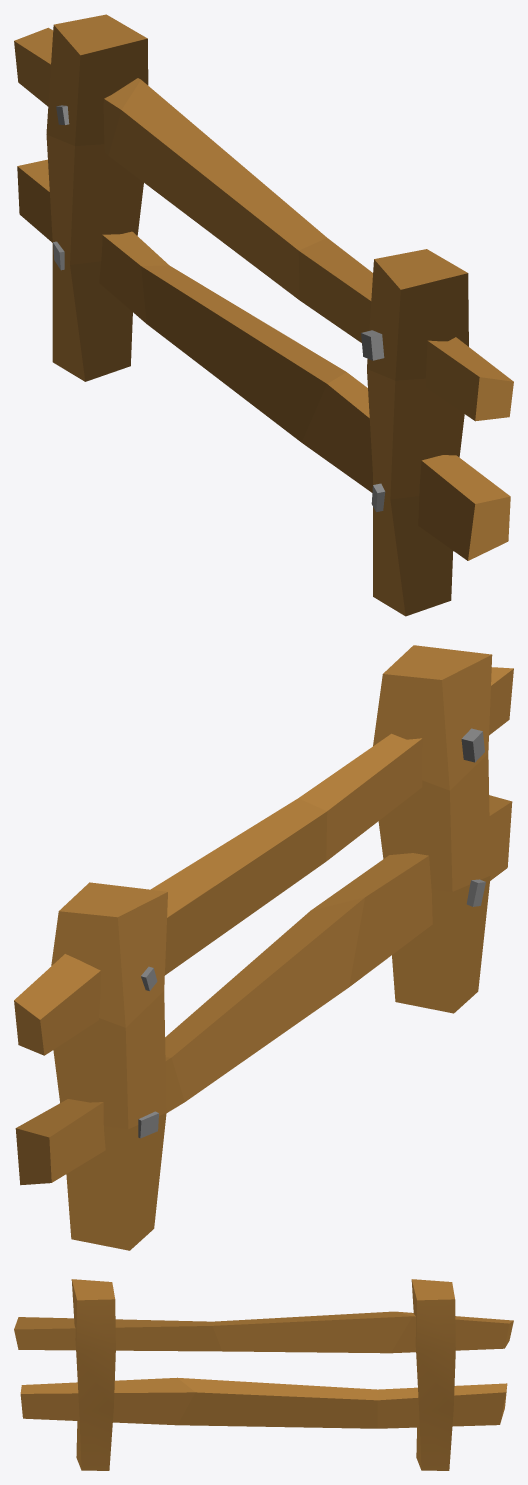
The model's file is Barrière_03.fbx.
The picture shows the model from 3 angles, top to bottom: view 1: azimuth 30°, elevation 25°; view 2: azimuth 150°, elevation 25°; view 3: azimuth 270°, elevation 25°; orthographic projection. The views are drawn at different scales.
Visible parts, largest first — view 1: Barrière_03; view 2: Barrière_03; view 3: Barrière_03.
Part boxes in pixels (x1,y1,x2,y2): Barrière_03: [14, 14, 513, 616]; Barrière_03: [14, 645, 513, 1250]; Barrière_03: [14, 1279, 513, 1470].
Bounding box in the file's own units: 39.98 × 143 × 368.
Materials: 1 (1 with a texture image).
